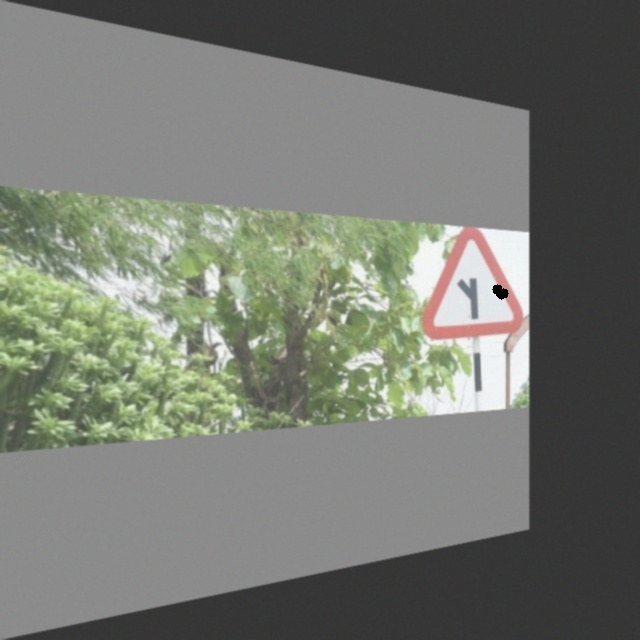Y_Intersection: (425, 226, 517, 338)
